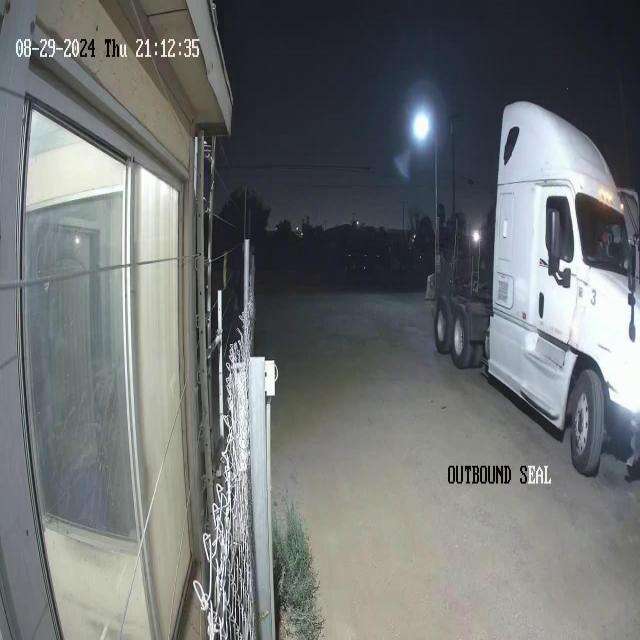BOBTAIL: (430, 99, 639, 477)
